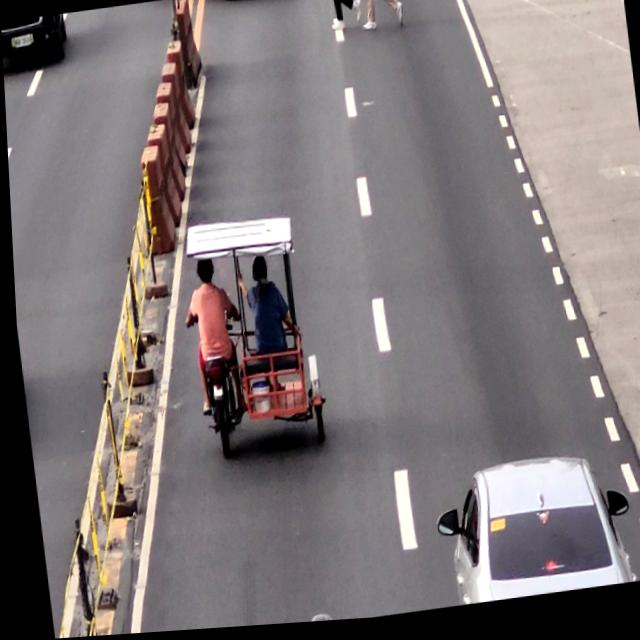Car: (437, 459, 627, 612)
Tricycle: (179, 212, 325, 461)
